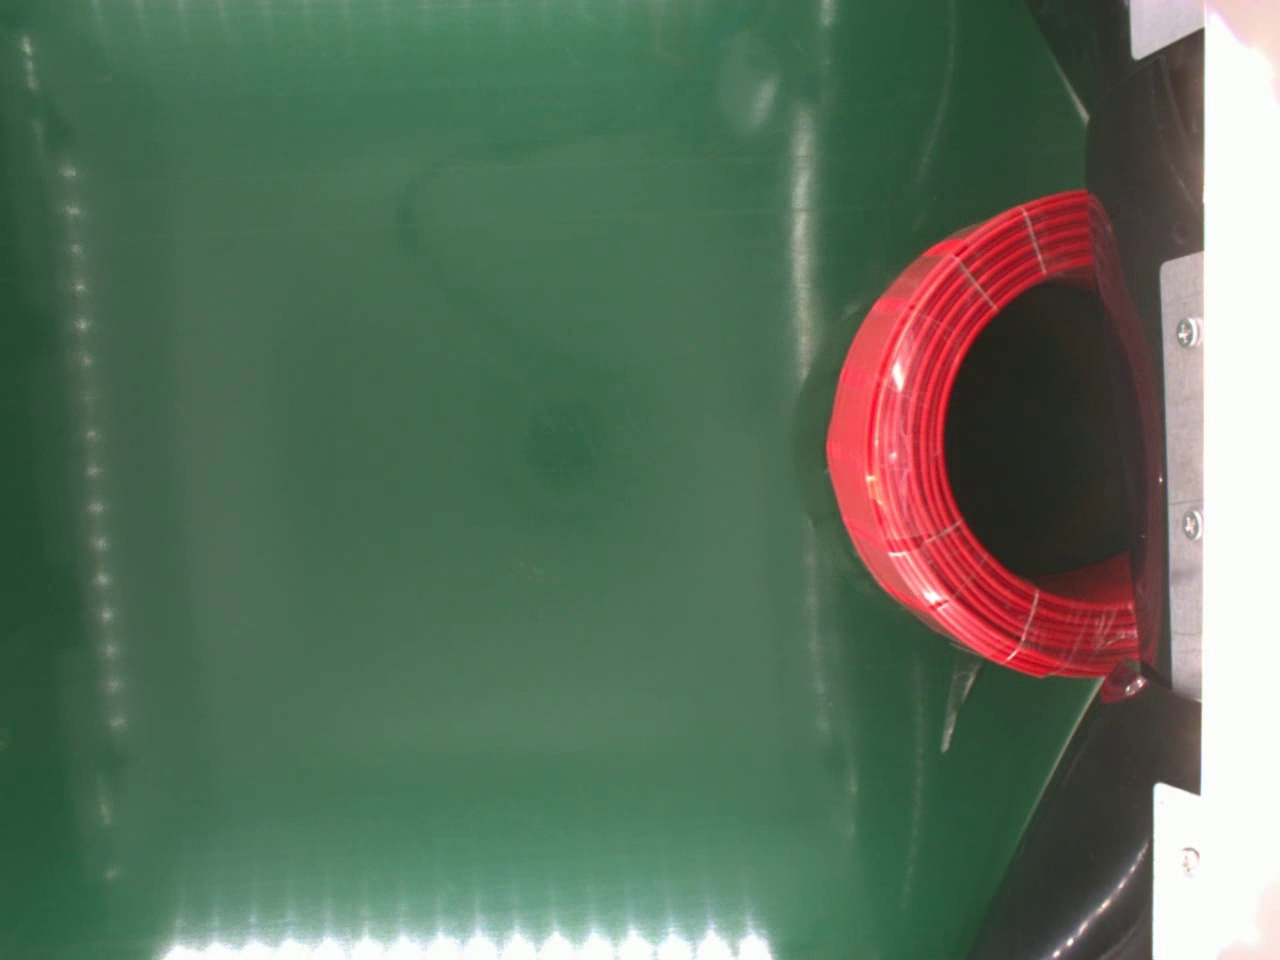red: (824, 185, 1138, 677)
